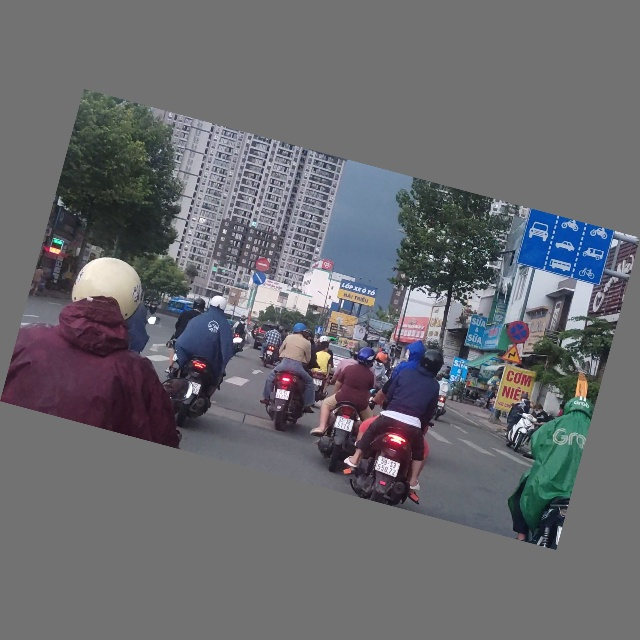I.407a: (315, 326, 324, 335)
I.434a: (377, 337, 387, 348)
P.102: (254, 257, 271, 274)
P.130: (504, 319, 532, 347)
R.302a: (250, 271, 269, 288)
R.415a: (516, 210, 615, 286)
W.202b: (501, 342, 526, 366)
